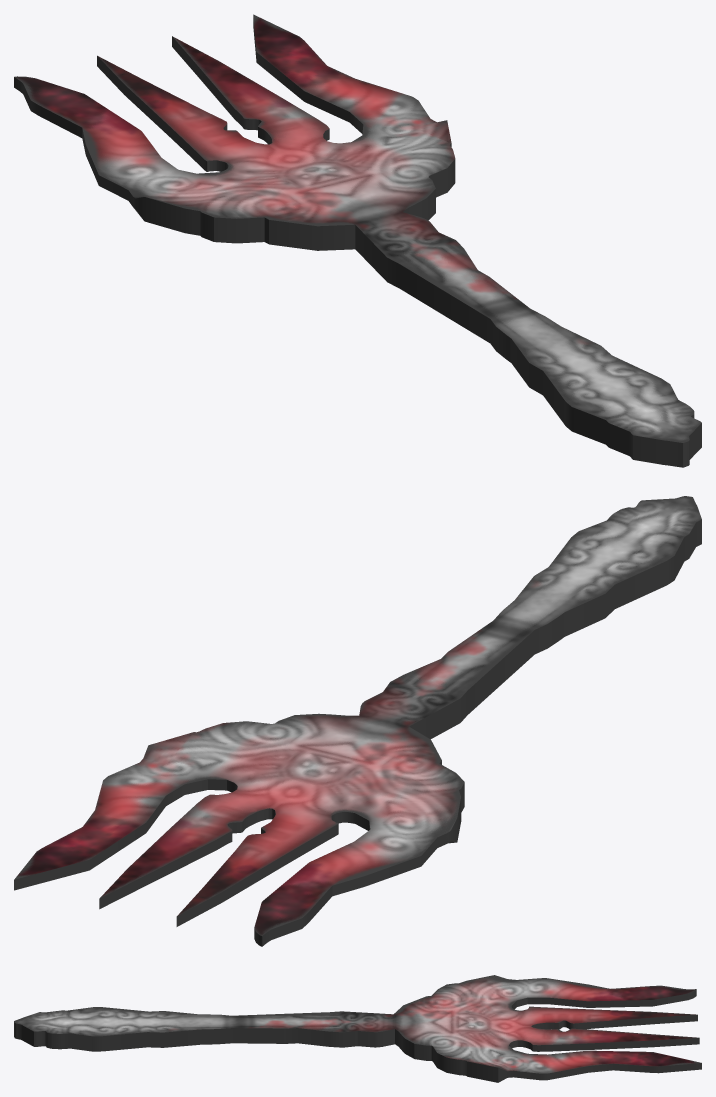
File: ForkGoodVersion.fbx
3 views of the same model, one above another, from view 1: azimuth 30°, elevation 25°; view 2: azimuth 150°, elevation 25°; view 3: azimuth 270°, elevation 25° (orthographic). The views are drawn at different scales.
Visible parts, largest first — view 1: polySurface1; view 2: polySurface1; view 3: polySurface1.
Boxes of the visible parts, box(x1,y1,x2,y2) form: polySurface1: box(14, 14, 701, 467); polySurface1: box(14, 496, 701, 946); polySurface1: box(14, 975, 701, 1082).
Size of the model in its own units: 1.36 by 0.1013 by 4.13.
